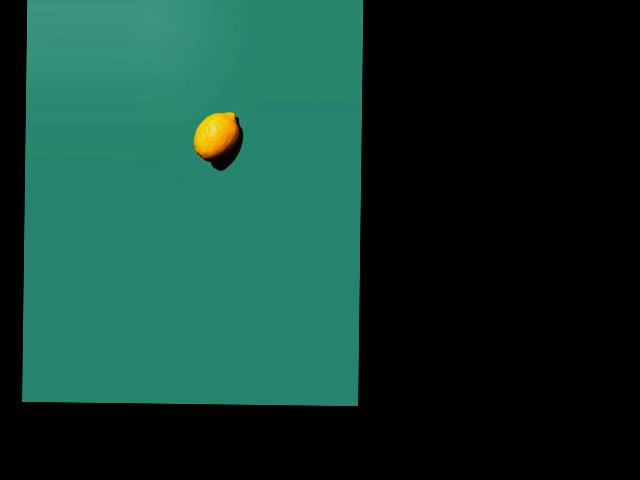lemon: (183, 103, 248, 176)
